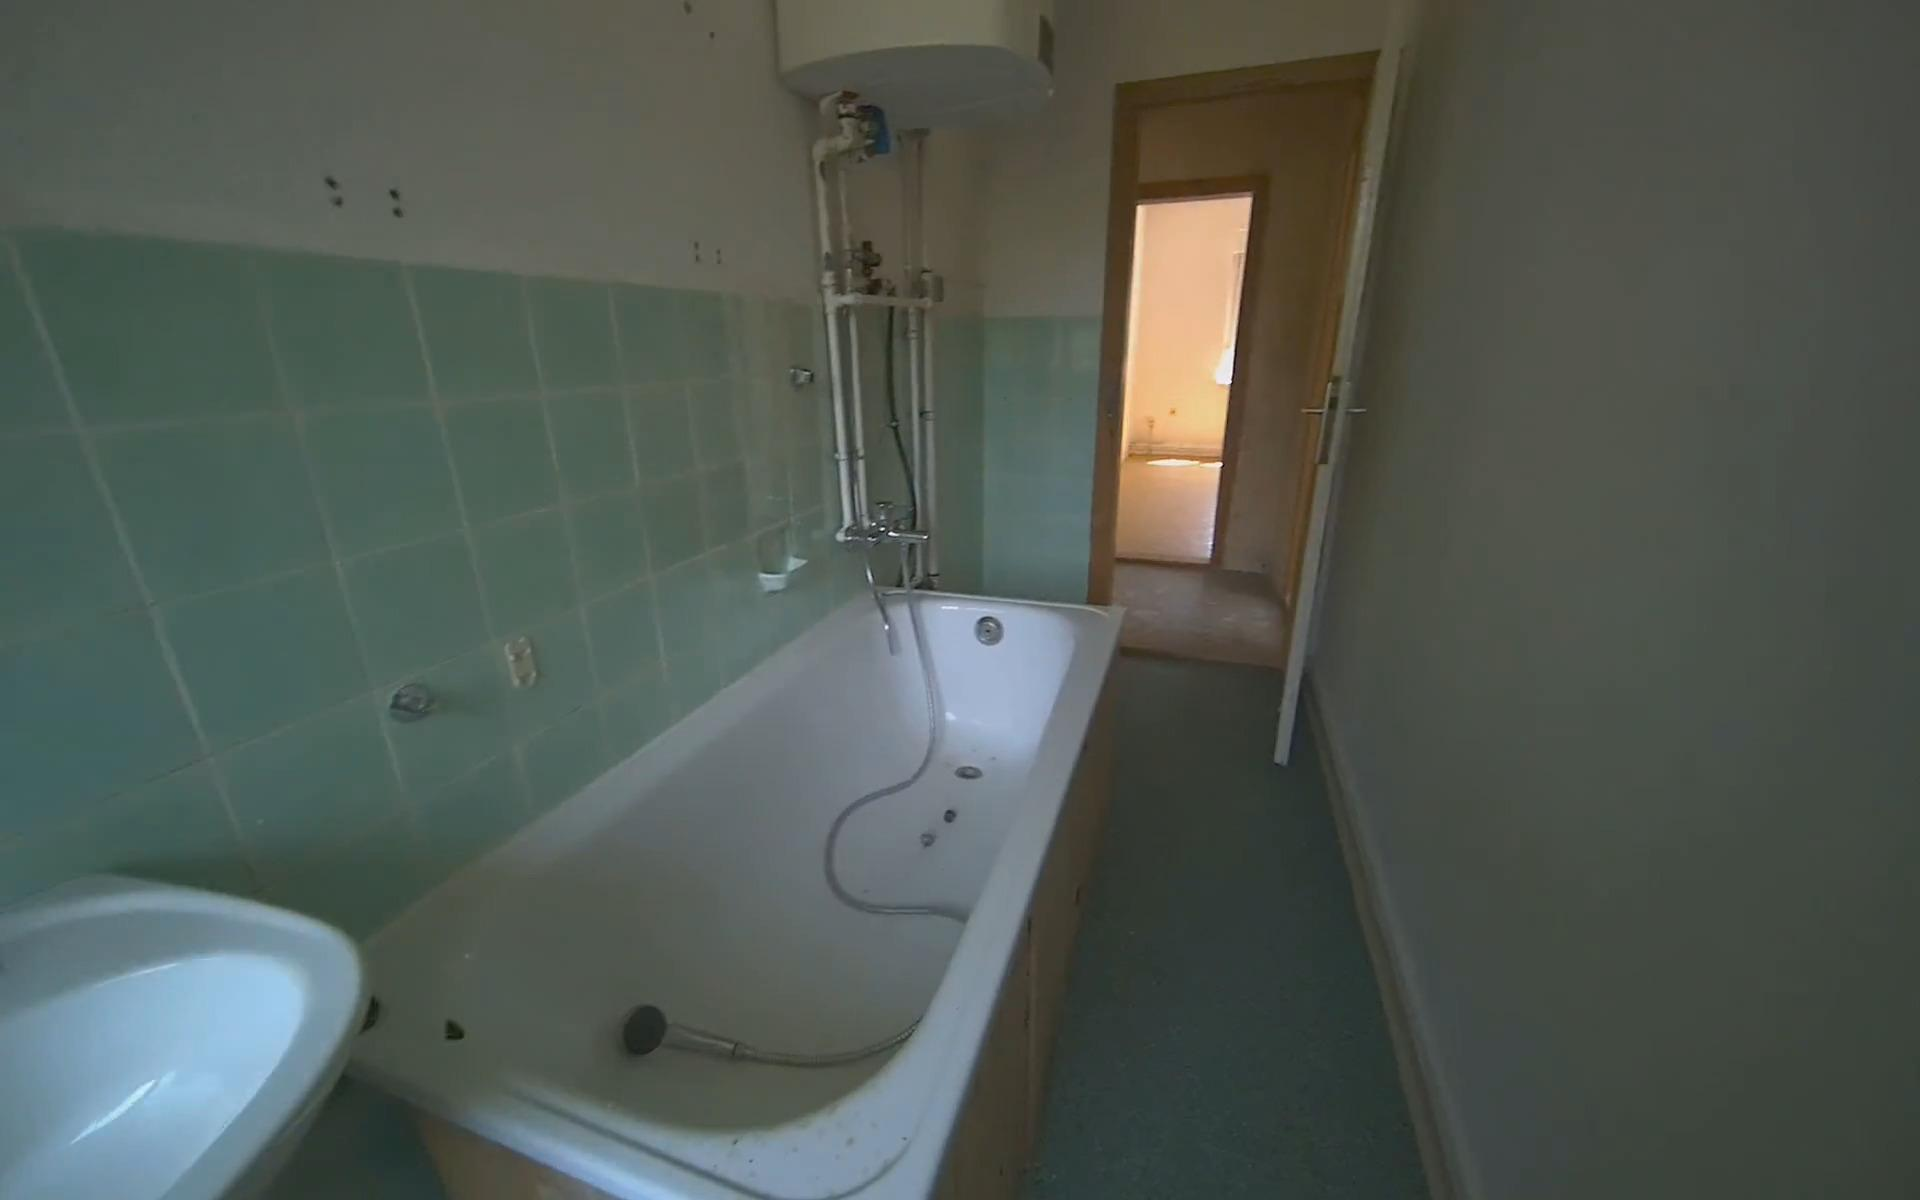doors: (1083, 43, 1400, 770), (1082, 175, 1277, 575)
